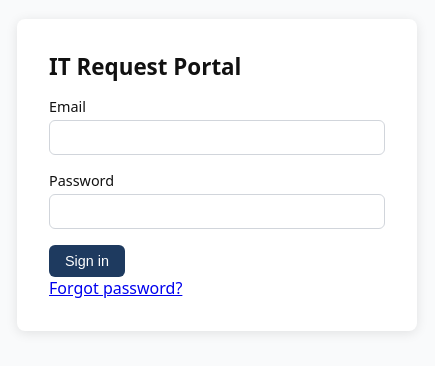
LoginPage › shows error message on failed login
Type "bad@example.com" into the field labelled "Email" at (217, 138), box [49,120,385,155]
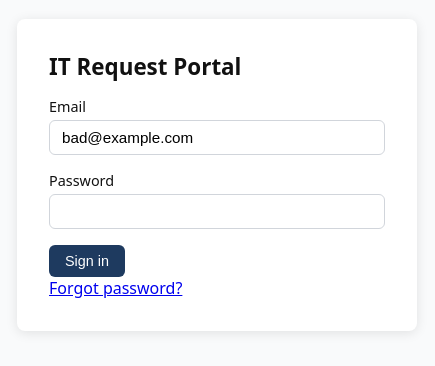
Type "wrongpassword" into the password field labelled "Password" at (217, 212), box [49,194,385,229]
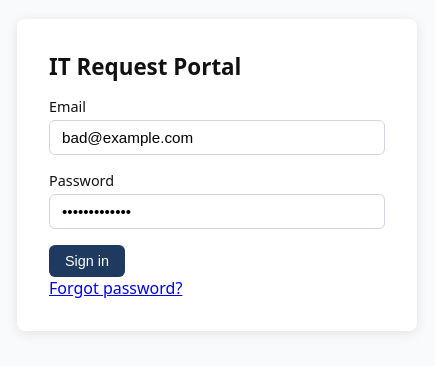
Click the button "Sign in" at (87, 261), box [49,245,125,277]
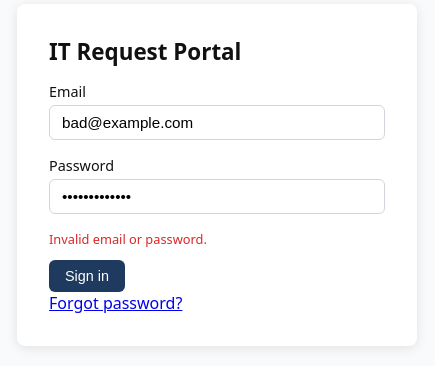
Result: the message shows "Invalid email or password" at [49,230,207,248]
